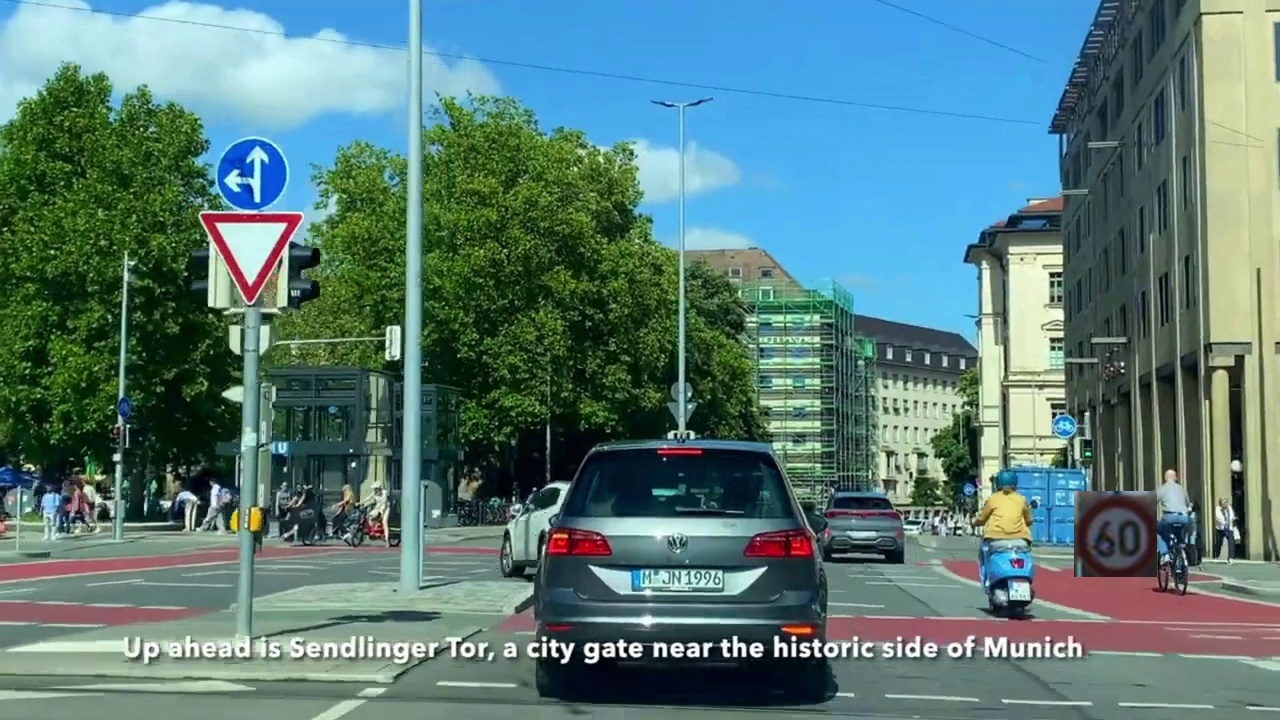Speed 60: (1074, 491, 1157, 577)
